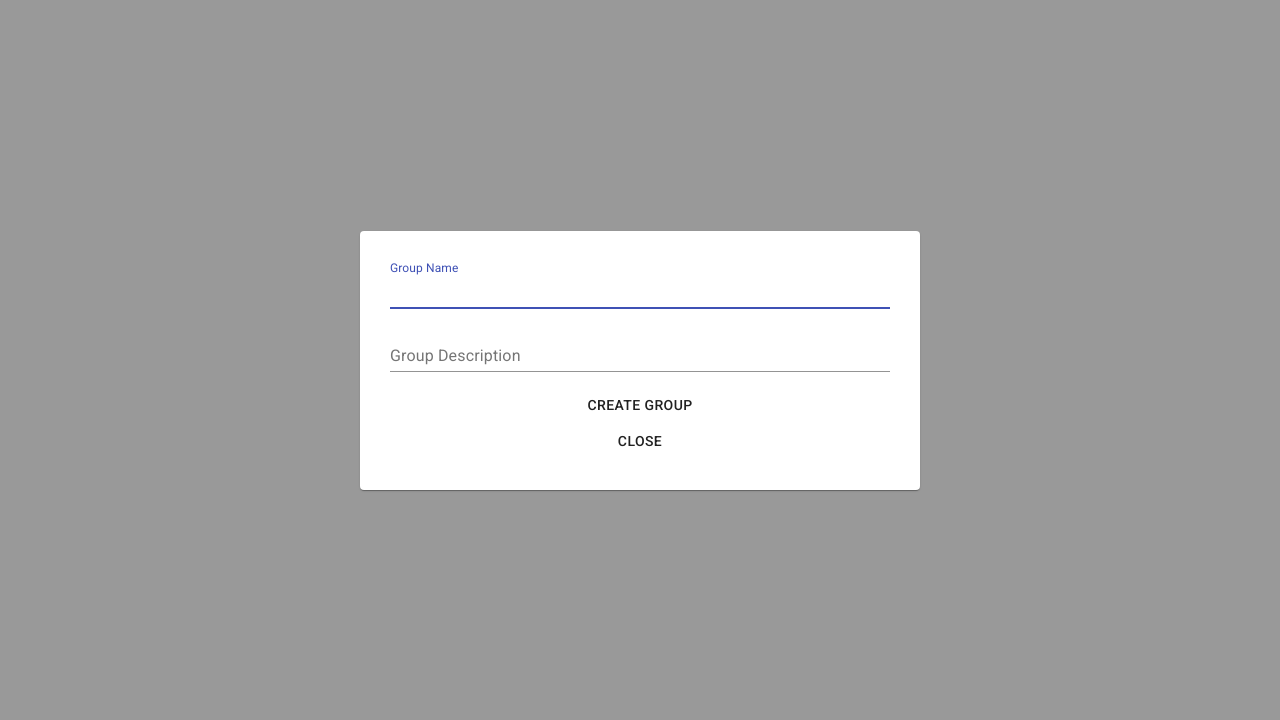
Scenario: should display "This field is required." if an empty group name is submitted
Click the button with test id "newgroupform-submit": (640, 405) [390, 386, 890, 423]
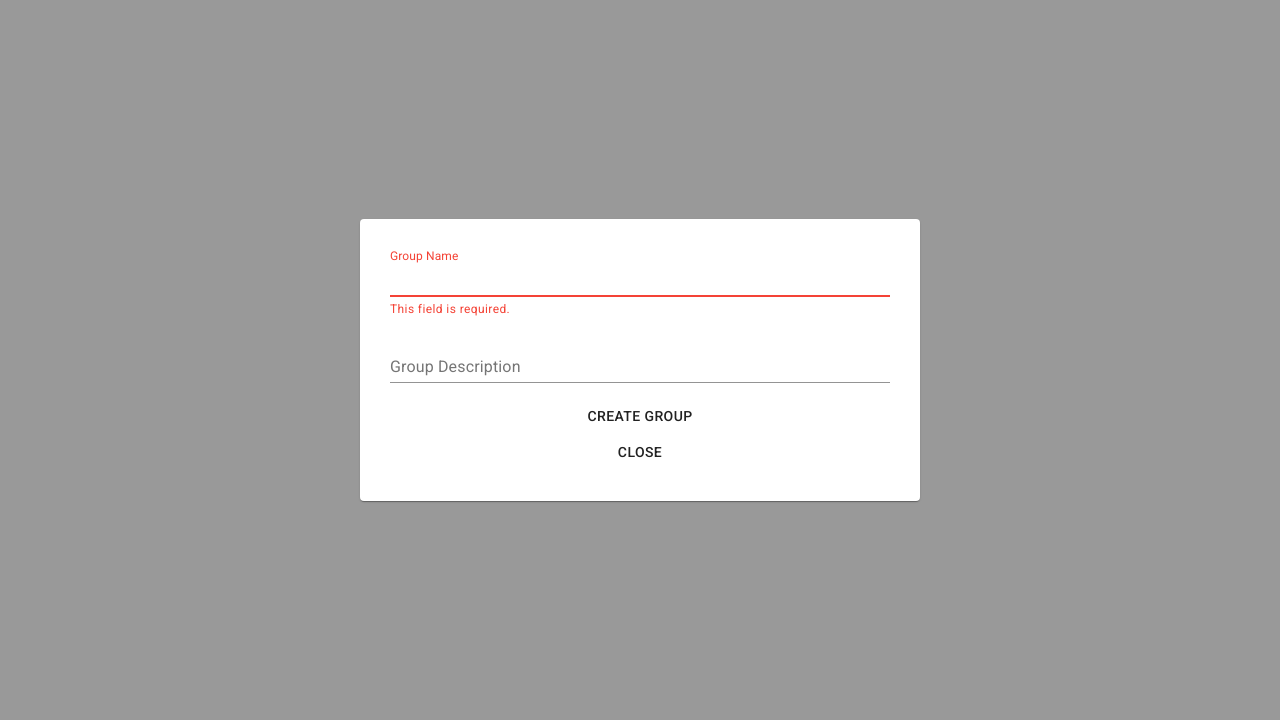
Expected: the text with test id "newgroupform-group-name-error" reads "This field is required.", [390, 302, 510, 316]
